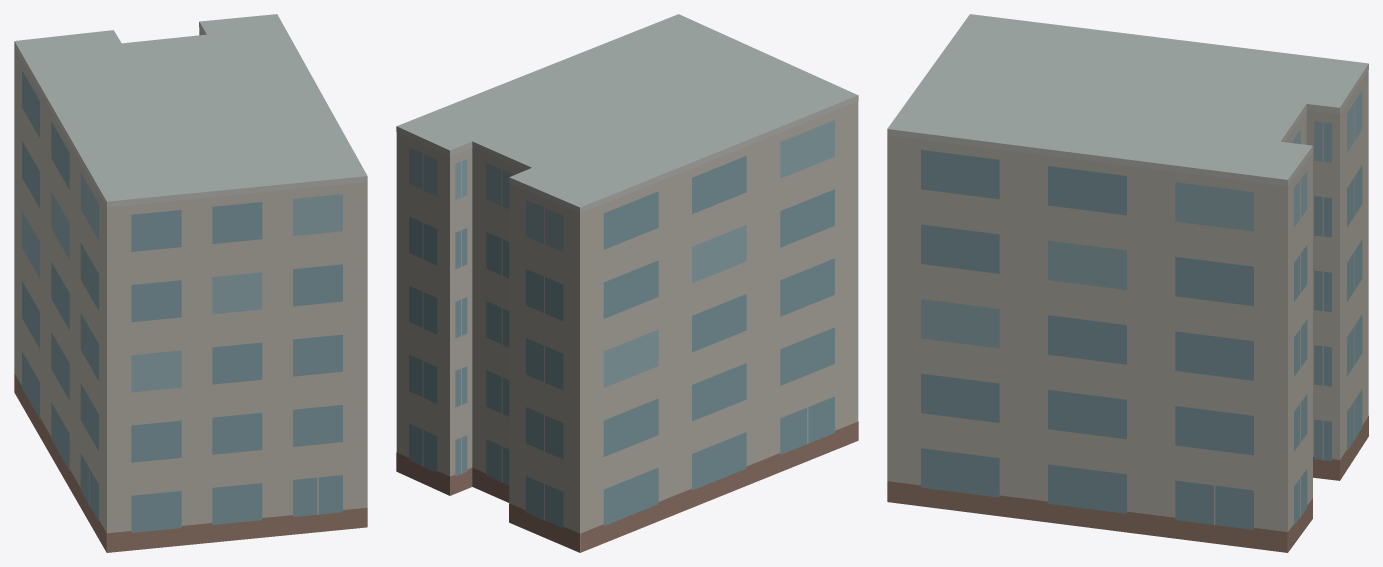
File: survey-upis-32950148.glb
3 views of the same model, side by side, from view 1: azimuth 30°, elevation 25°; view 2: azimuth 150°, elevation 25°; view 3: azimuth 270°, elevation 25° (orthographic). The views are drawn at different scales.
Parts seen in each view (by area): view 1: survey-upis-32950148.tmp; view 2: survey-upis-32950148.tmp; view 3: survey-upis-32950148.tmp.
Boxes of the visible parts, box(x1,y1,x2,y2) form: survey-upis-32950148.tmp: box(14, 14, 367, 552); survey-upis-32950148.tmp: box(396, 14, 858, 552); survey-upis-32950148.tmp: box(887, 14, 1368, 552).
Bounding box in the file's own units: 13.74 × 14.4 × 16.86.
